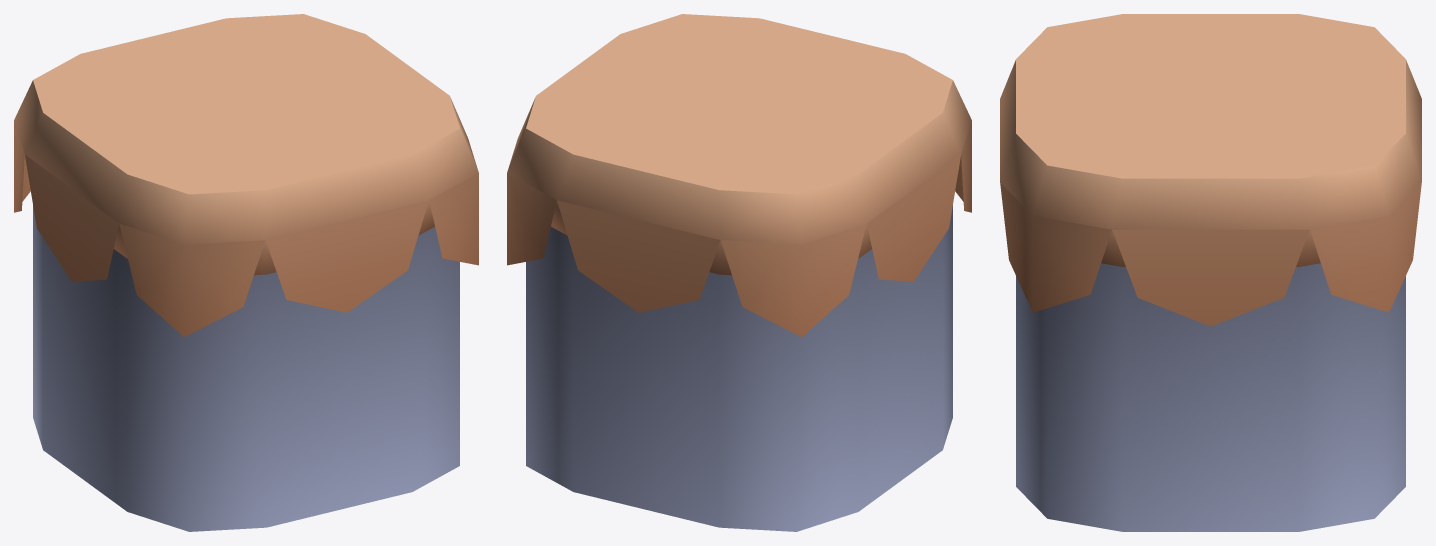
File: block-grass-overhang-corner.glb
The picture shows the model from 3 angles, left to right: view 1: azimuth 30°, elevation 25°; view 2: azimuth 150°, elevation 25°; view 3: azimuth 270°, elevation 25°; orthographic projection. The views are drawn at different scales.
Visible parts, largest first — view 1: block-grass-overhang-corner; view 2: block-grass-overhang-corner; view 3: block-grass-overhang-corner.
Part boxes in pixels (x1,y1,x2,y2): block-grass-overhang-corner: [14, 14, 478, 531]; block-grass-overhang-corner: [507, 14, 971, 531]; block-grass-overhang-corner: [1000, 14, 1421, 531].
Bounding box in the file's own units: 1.08 × 1 × 1.08.
